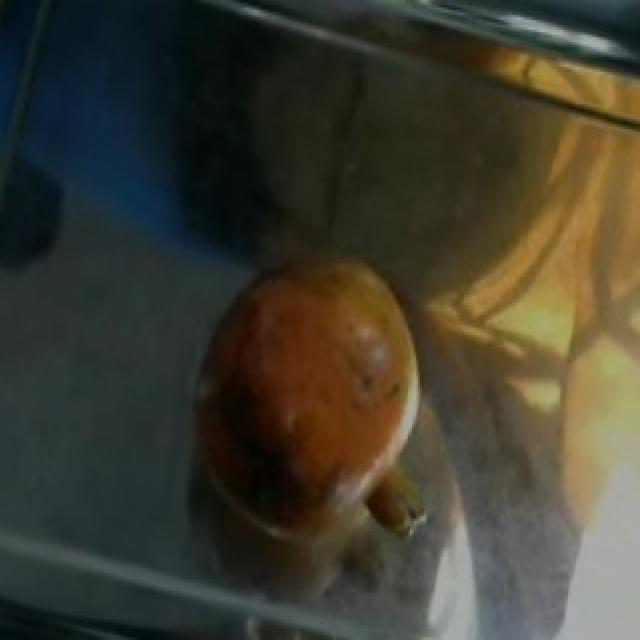fruit: (172, 223, 448, 494)
